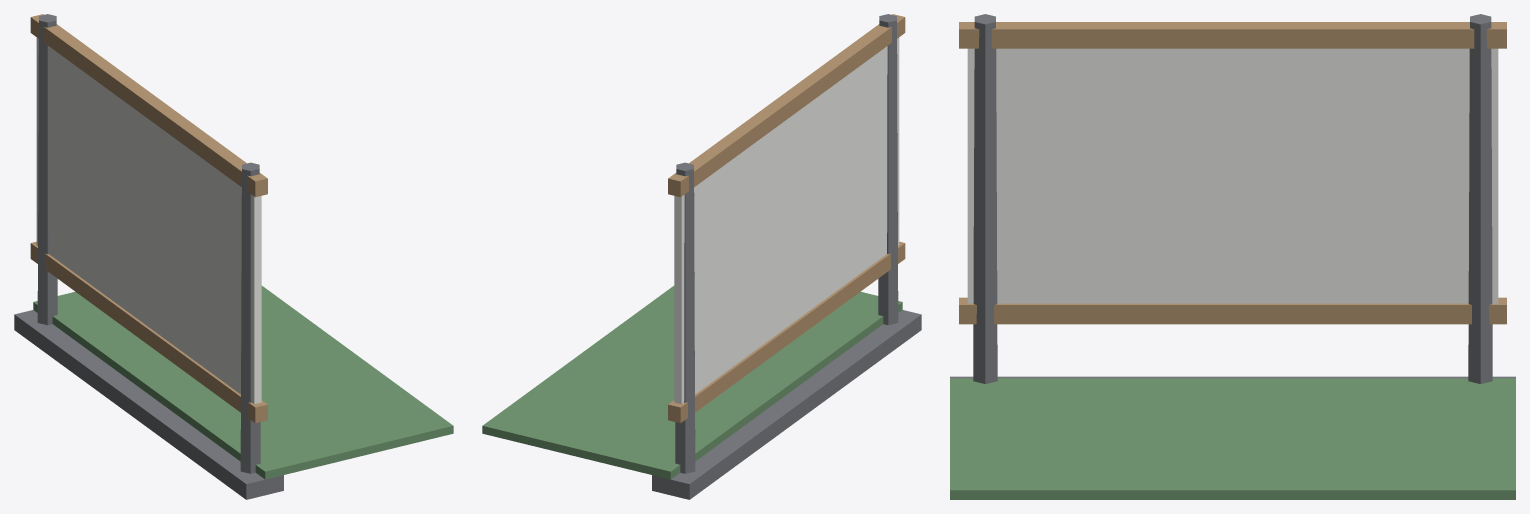
The model's file is golf-course-and-clubhouse-driving-range-bay-divider-239acd0c__33499.glb.
3 renders of one model, left to right at view 1: azimuth 30°, elevation 25°; view 2: azimuth 150°, elevation 25°; view 3: azimuth 270°, elevation 25°, orthographic. The views are drawn at different scales.
Visible parts, largest first — view 1: driving-range-bay-divider; view 2: driving-range-bay-divider; view 3: driving-range-bay-divider.
Boxes of the visible parts, x1,y1,x2,y2 form: driving-range-bay-divider: [14, 14, 453, 499]; driving-range-bay-divider: [482, 14, 921, 499]; driving-range-bay-divider: [950, 14, 1515, 499].
Size of the model in its own units: 1.65 by 2.42 by 3.2.
